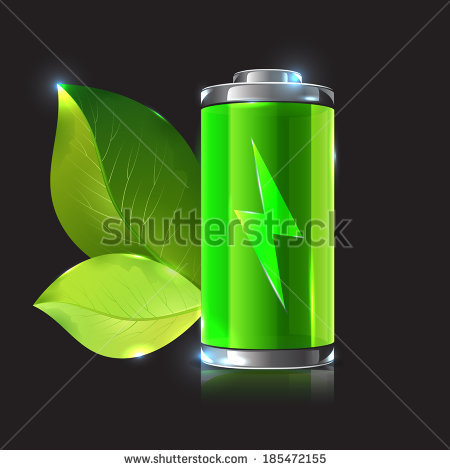charging sign: (196, 55, 351, 370)
